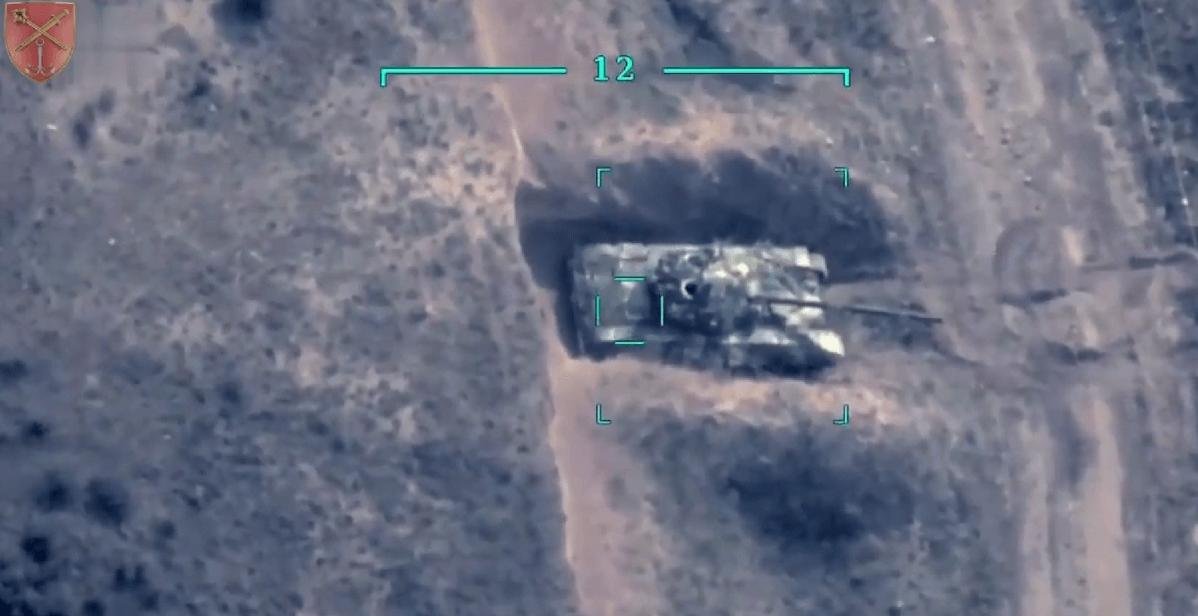tank: (566, 230, 952, 387)
